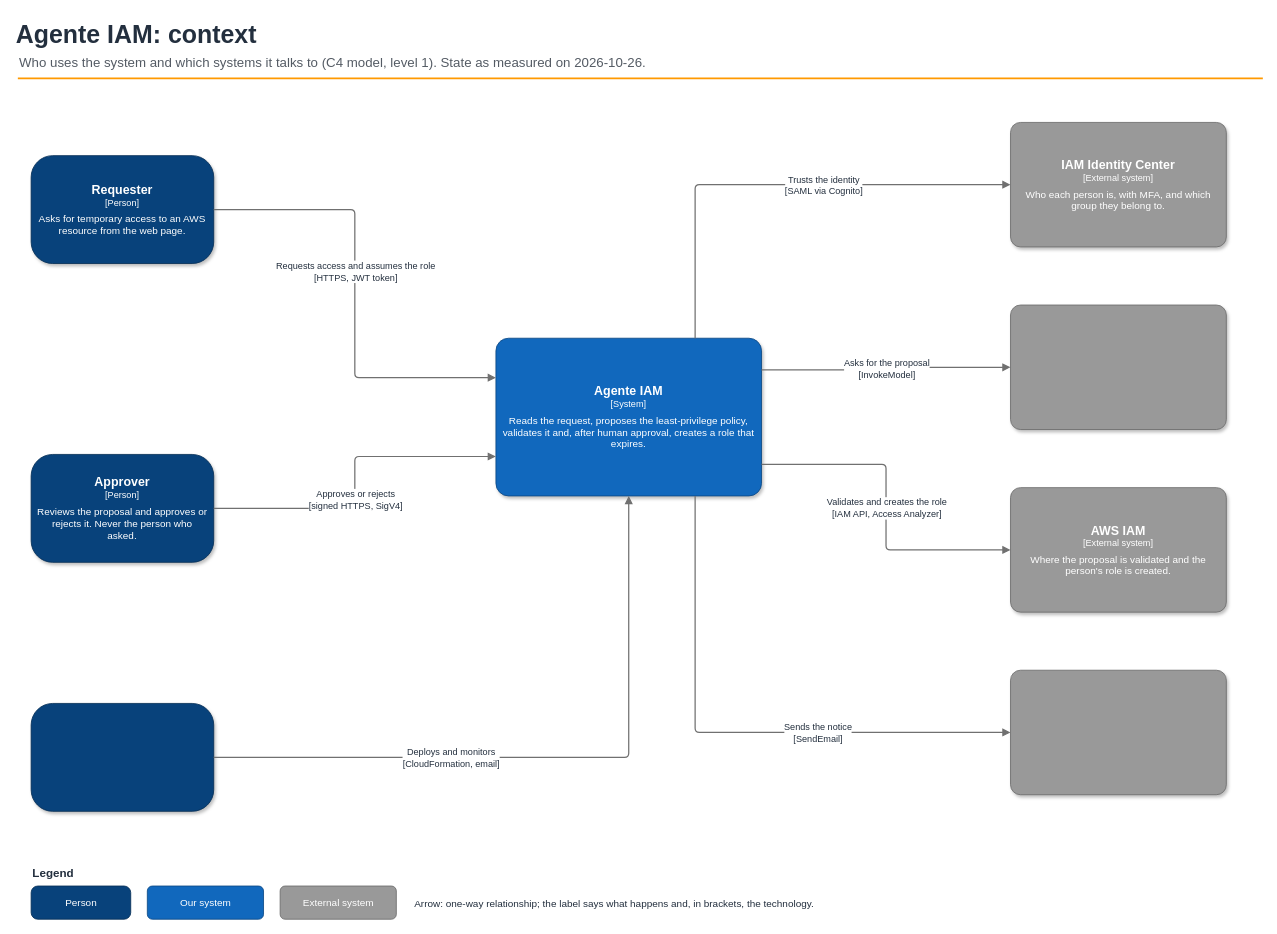
Image size: 1277x934. Some labels were removed from this diagram. The shapes that lost their labels are listed below. From the top down, each one's centre as x and y in pixels, then its label:
At (x=1118, y=368): "Amazon Bedrock [External system] The model that drafts the proposal (Claude).".
At (x=1118, y=733): "Email (Amazon SES) [External system] Tells the person about each decision.".
At (x=123, y=758): "Operator [Person] Deploys the stacks and receives the alarms.".
